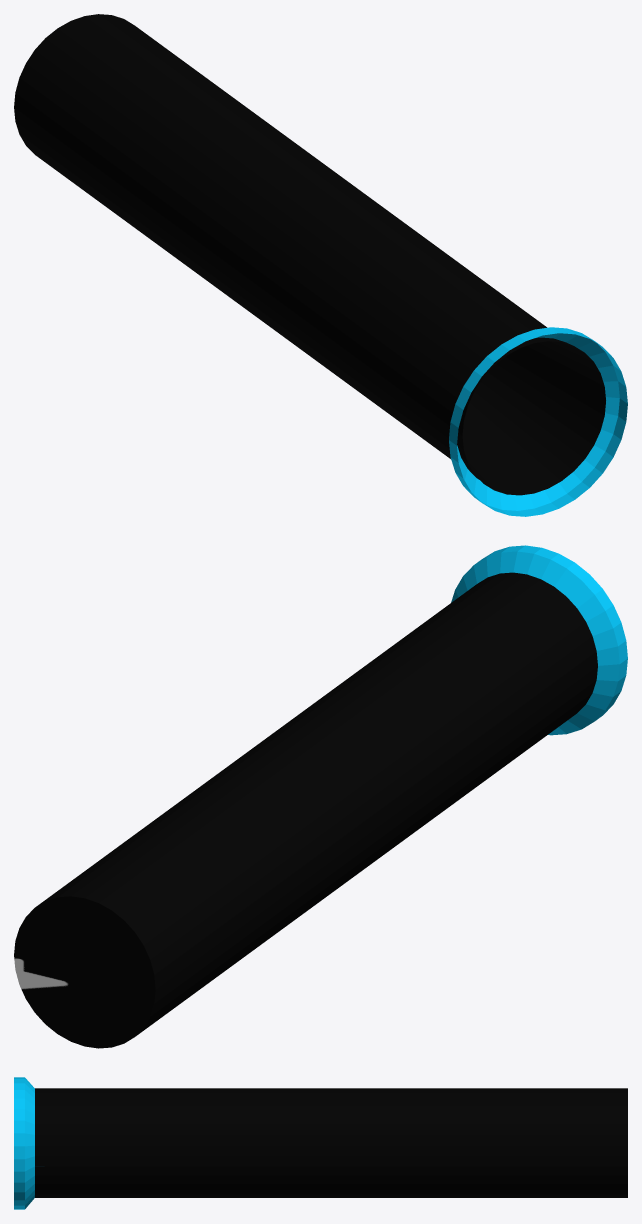
Rendered from lekj.obj.
3 views of the same model, one above another, from view 1: azimuth 30°, elevation 25°; view 2: azimuth 150°, elevation 25°; view 3: azimuth 270°, elevation 25° (orthographic). The views are drawn at different scales.
Parts seen in each view (by area): view 1: Цилиндр, Конус; view 2: Цилиндр; view 3: Цилиндр.
Boxes of the visible parts, x1=… form: Цилиндр: x1=14, y1=14, x2=627, y2=516; Конус: x1=457, y1=337, x2=605, y2=495; Цилиндр: x1=14, y1=545, x2=627, y2=1048; Цилиндр: x1=14, y1=1077, x2=627, y2=1209.
Bounding box in the file's own units: 1.02 × 1.02 × 4.73.
